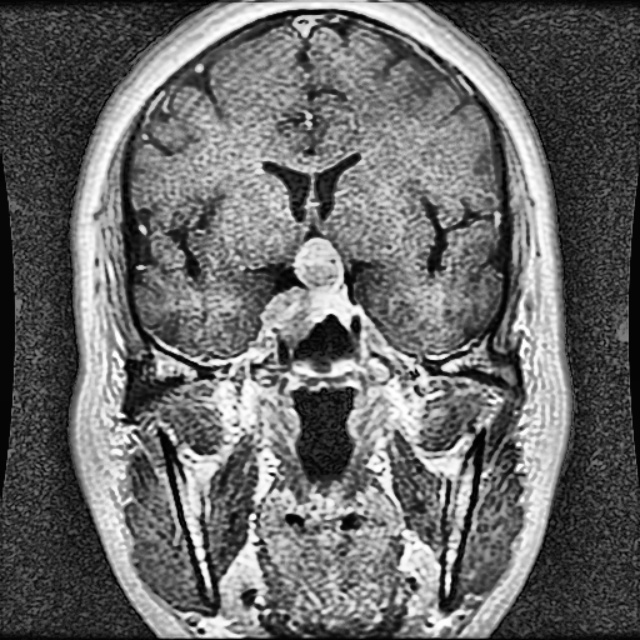Pituitary: (263, 237, 352, 343)
